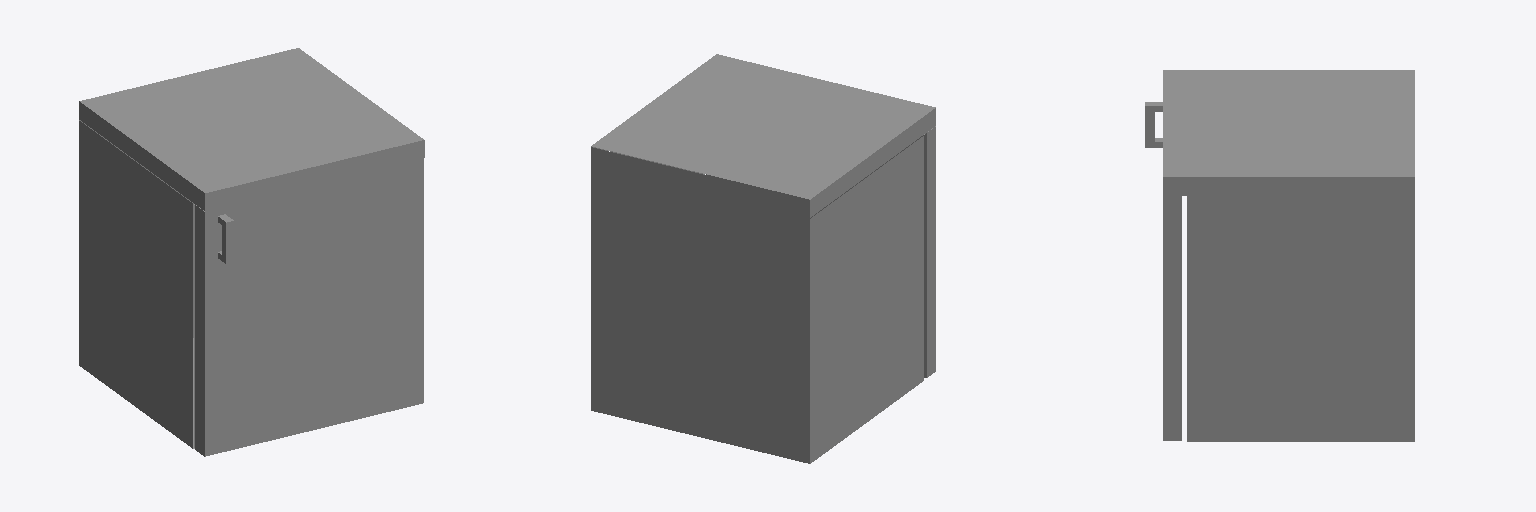
Rendered from mobile_cucina.obj.
The picture shows the model from 3 angles: view 1: azimuth 30°, elevation 25°; view 2: azimuth 150°, elevation 25°; view 3: azimuth 270°, elevation 25°; orthographic projection.
Parts seen in each view (by area): view 1: Cube_Cube_Wood_Cherry, Cube_Cube_Material, Cube_Cube_Aluminum; view 2: Cube_Cube_Wood_Cherry, Cube_Cube_Material; view 3: Cube_Cube_Wood_Cherry, Cube_Cube_Material, Cube_Cube_Aluminum.
Boxes of the visible parts, x1=… form: Cube_Cube_Wood_Cherry: x1=79, y1=120, x2=423, y2=456; Cube_Cube_Material: x1=79, y1=48, x2=424, y2=211; Cube_Cube_Aluminum: x1=194, y1=205, x2=233, y2=447; Cube_Cube_Wood_Cherry: x1=591, y1=126, x2=935, y2=463; Cube_Cube_Material: x1=591, y1=54, x2=935, y2=217; Cube_Cube_Wood_Cherry: x1=1163, y1=196, x2=1414, y2=441; Cube_Cube_Material: x1=1163, y1=70, x2=1414, y2=195; Cube_Cube_Aluminum: x1=1145, y1=102, x2=1162, y2=147.
Size of the model in its own units: 2.62 by 3.02 by 2.78.